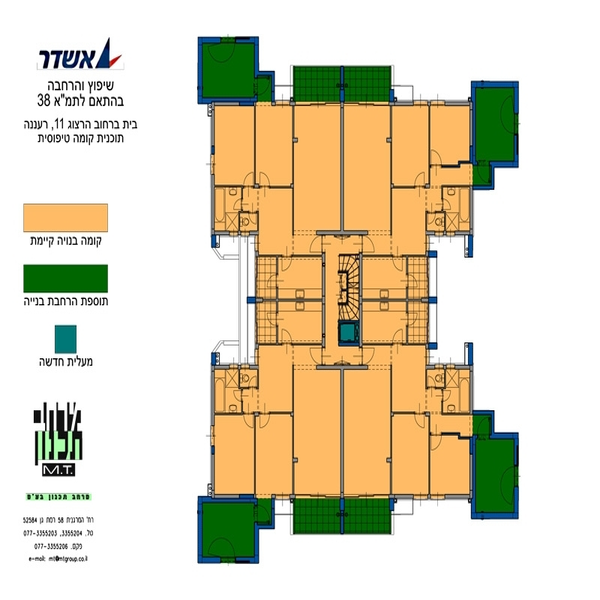room: (207, 97, 345, 239), (341, 363, 474, 500), (213, 362, 297, 498), (357, 247, 431, 352), (253, 253, 329, 349)
